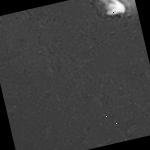colony: (83, 0, 140, 37)
